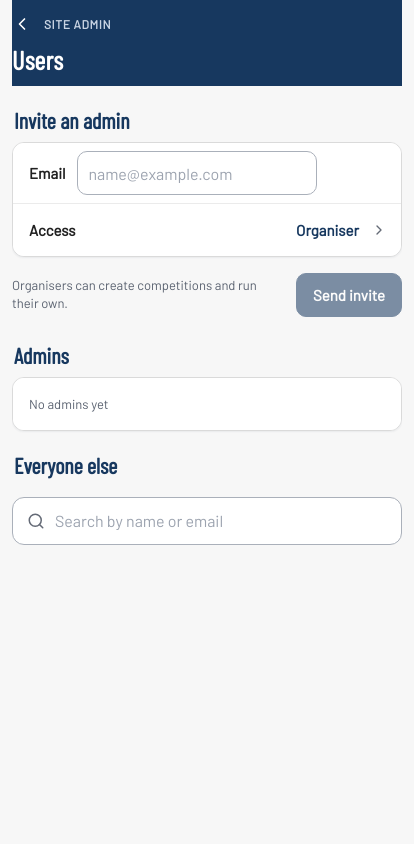
UsersPage › says when nothing matches or the search fails
This screenshot has width=414, height=844.
In the search field named "Search accounts": {"x": 221, "y": 521} [55,499,387,543], type "zz"
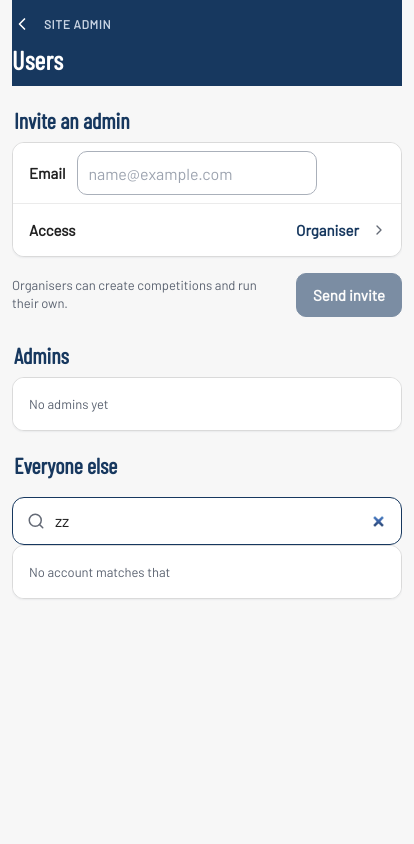
Expected: the text "No account matches that" is shown, [29,564,170,580]
In the search field named "Search accounts": {"x": 221, "y": 521} [55,499,387,543], type "x"
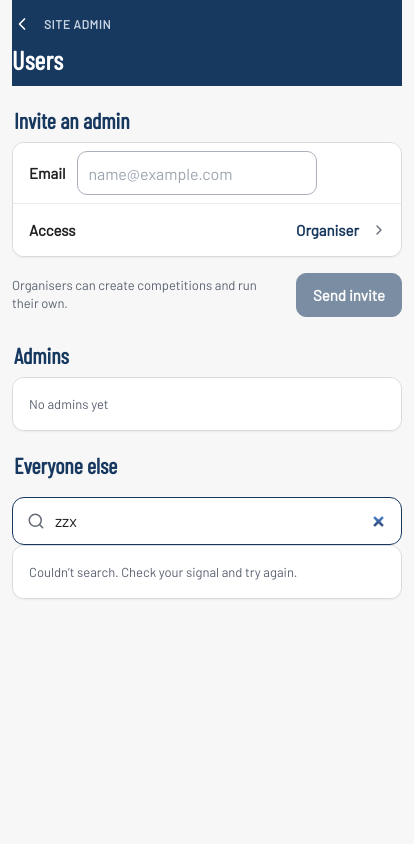
Expected: the text "Couldn’t search. Check your signal and try again." is shown, [29,564,297,580]
